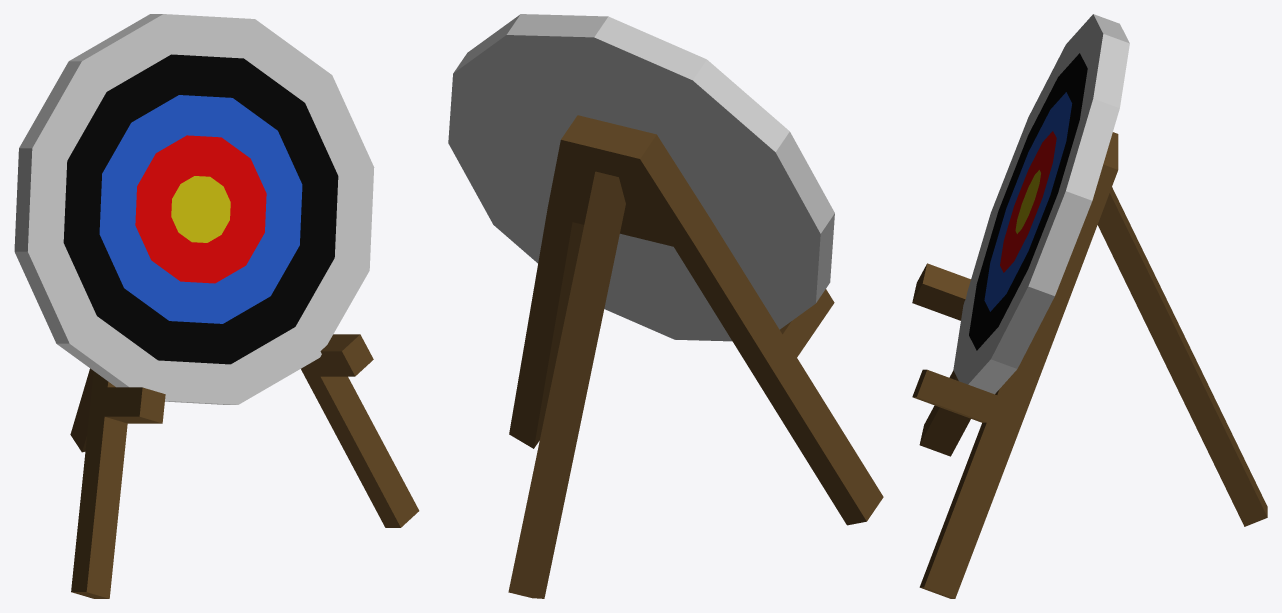
Rendered from Target.fbx.
The picture shows the model from 3 angles, left to right: view 1: azimuth 30°, elevation 25°; view 2: azimuth 150°, elevation 25°; view 3: azimuth 270°, elevation 25°; orthographic projection. The views are drawn at different scales.
Parts seen in each view (by area): view 1: Target; view 2: Target; view 3: Target.
Part boxes in pixels (box(x1,y1,x2,y2)): Target: box(14, 14, 419, 598); Target: box(448, 14, 883, 598); Target: box(912, 14, 1267, 598).
Size of the model in its own units: 1.07 by 1.45 by 0.948.
